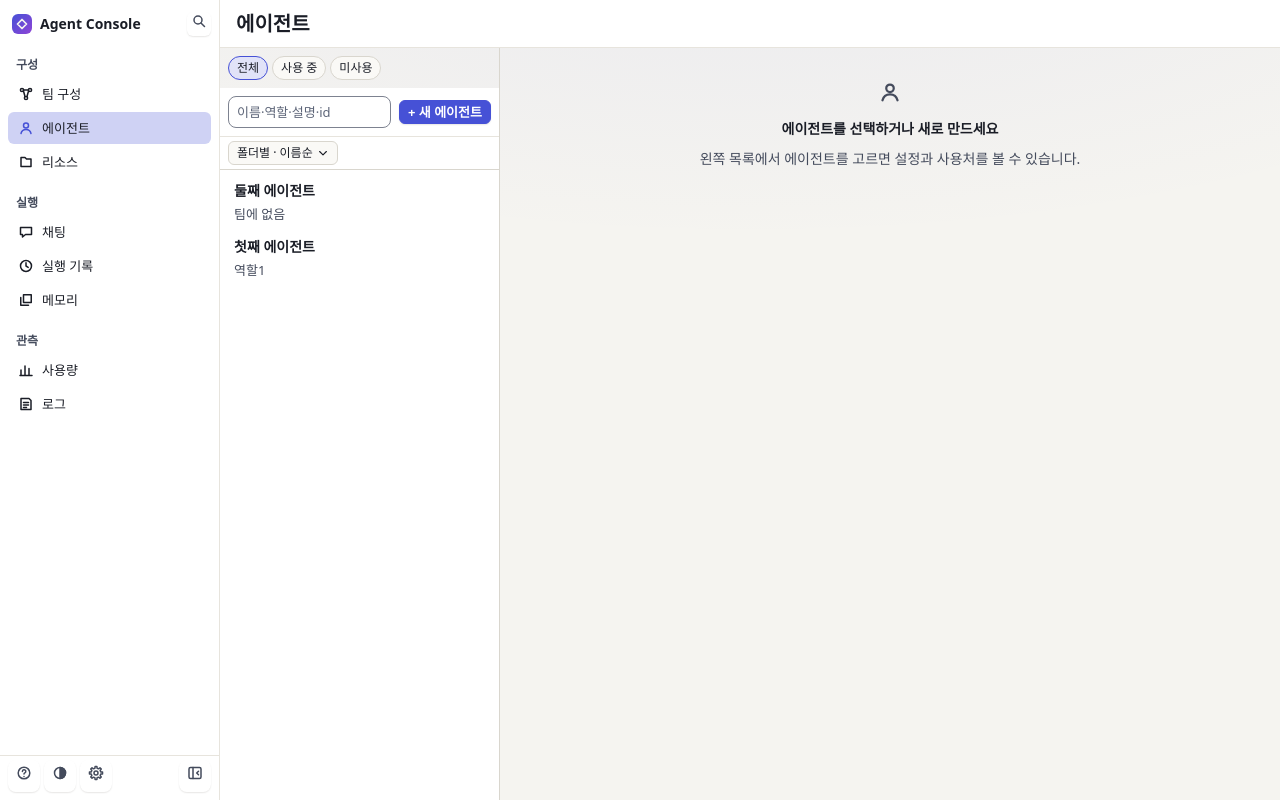
에이전트 목록 › 이름순 목록에 사용 팀 수가 붙고 검색·미사용 필터가 동작한다
Expected: the text "팀에 없음" is shown, [234,205,285,223]
Click the button "미사용" at (356, 68), box [330,56,381,80]
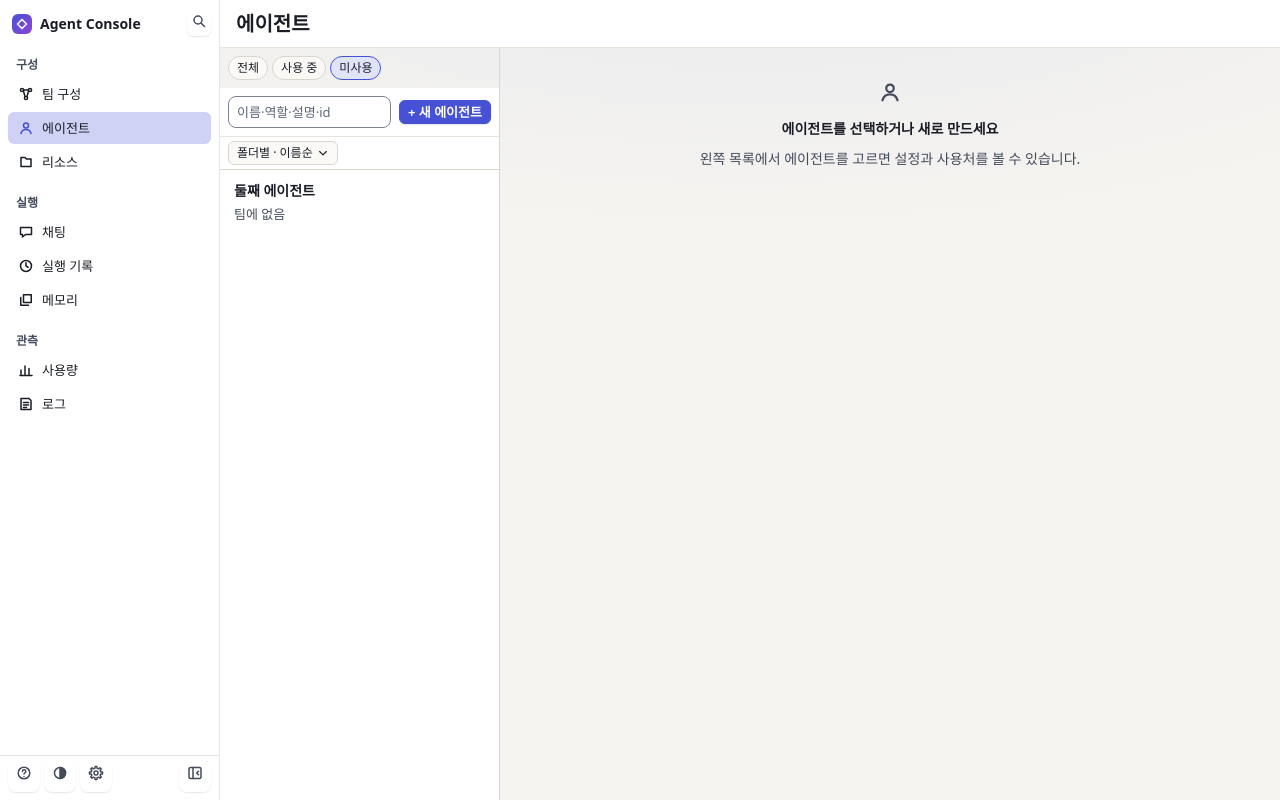
Now the number of options is 1, box [234,181,315,223]
Click the button "전체" at (248, 68), box [228,56,268,80]
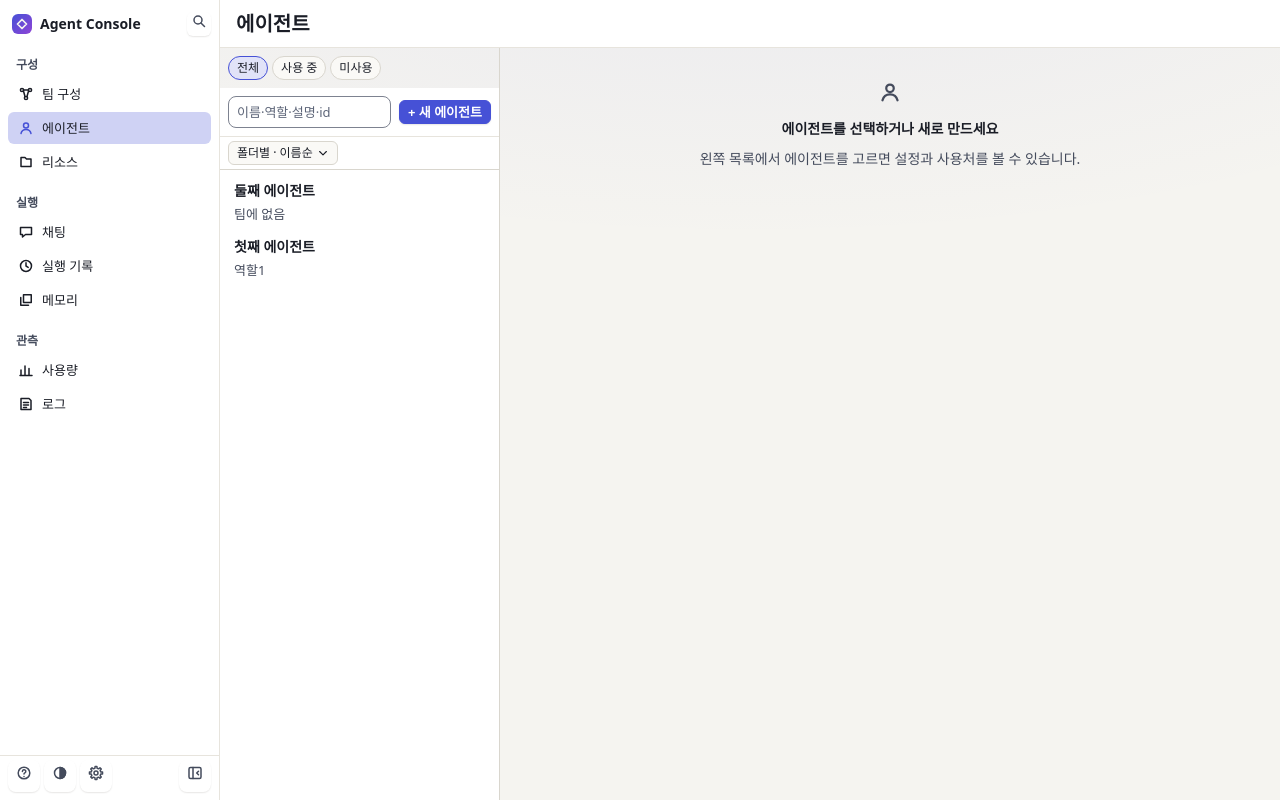
Type "역할1" into the search field named "에이전트 검색" at (310, 112), box [228,96,391,128]
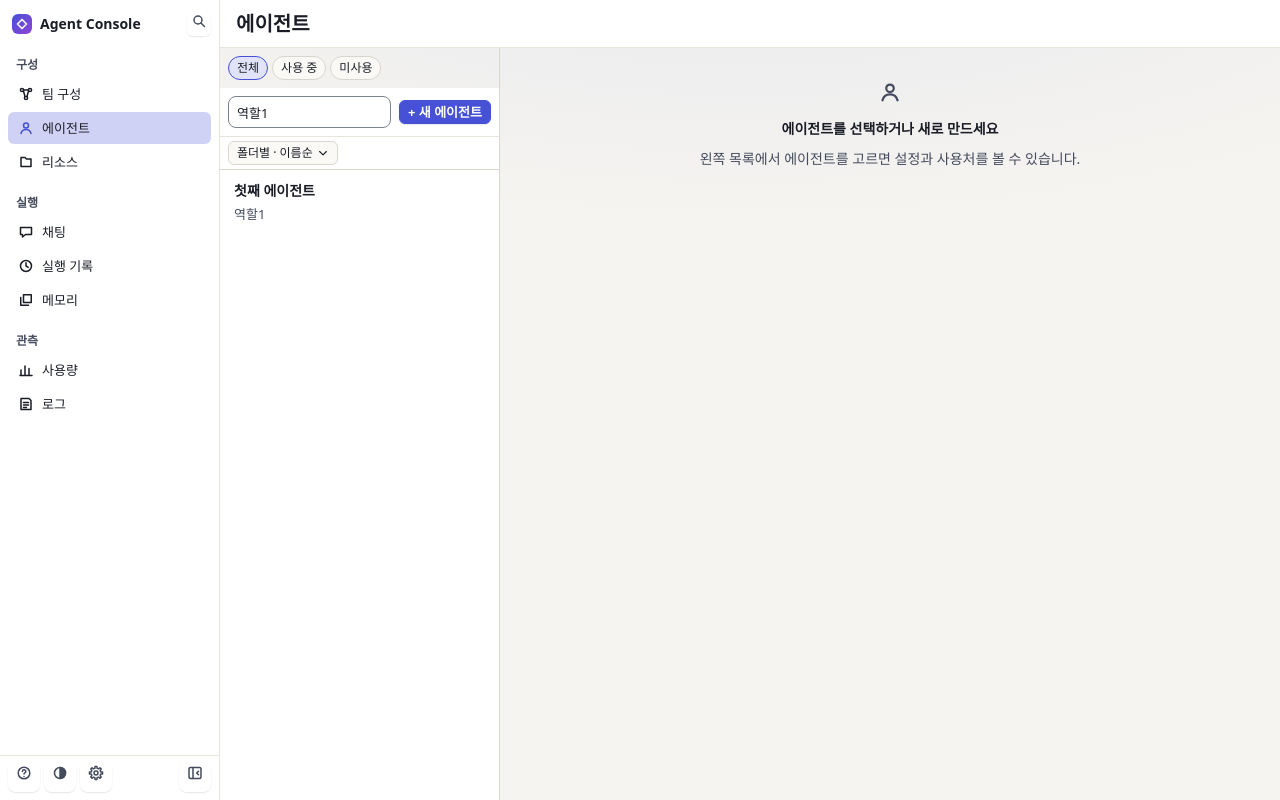
Now the number of options is 1, box [234,181,315,223]
